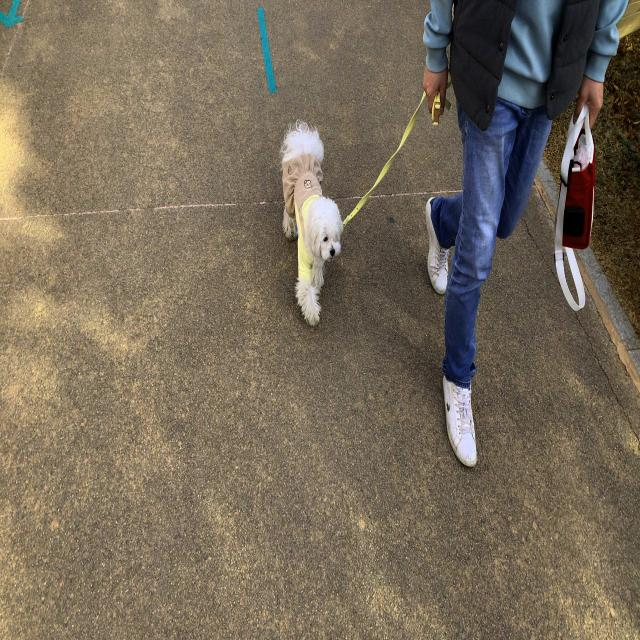Leashed_Dog: (277, 31, 480, 333)
